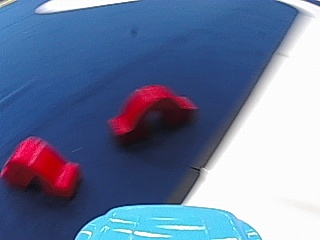bridge: (101, 81, 205, 147), (1, 132, 86, 207)
